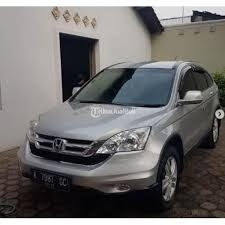plate: (31, 169, 68, 190)
